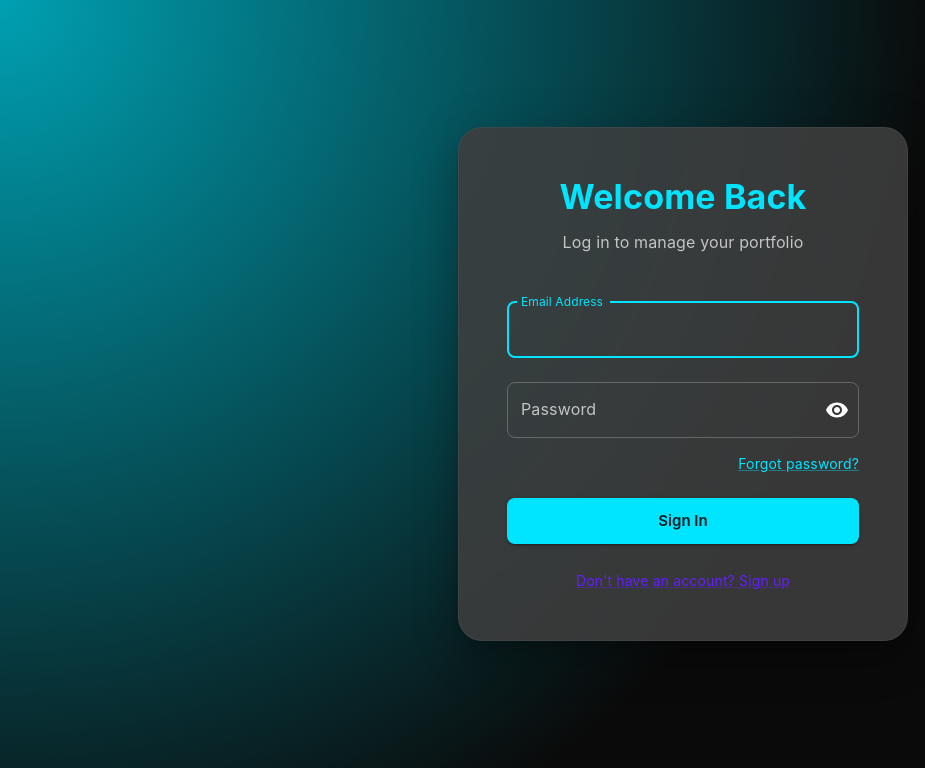
Test: LoginForm Component › shows validation error for invalid email
In the field labelled "Email Address": (683, 330) [507,302,859,358], type "invalid-email"
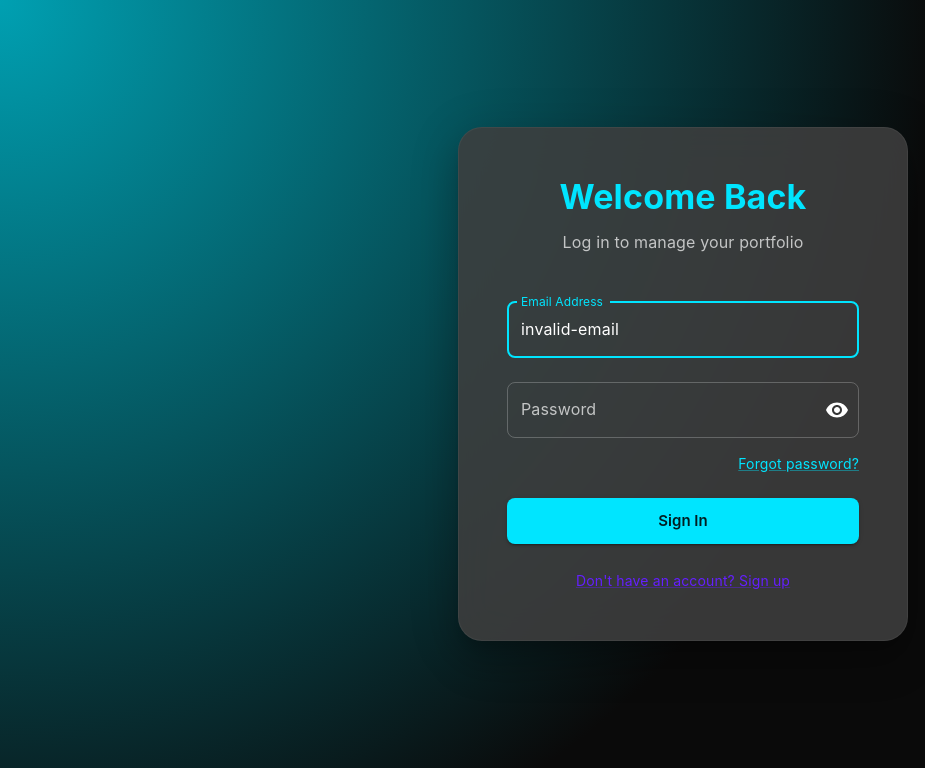
Click the button "Sign In": (683, 521) [507,498,859,544]
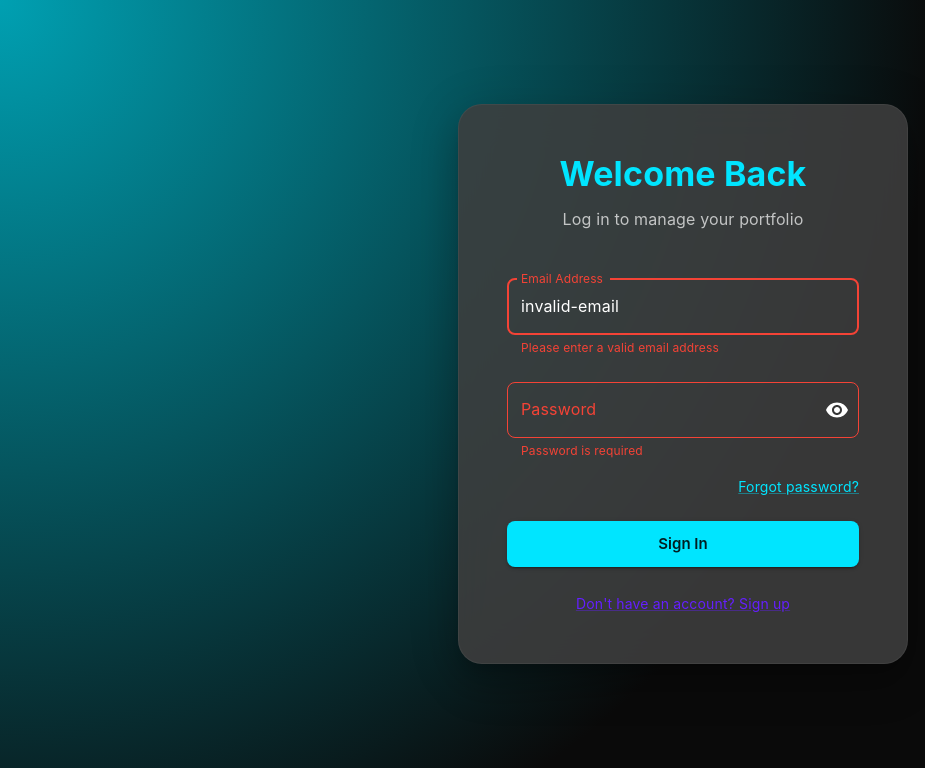
Check: the text "Please enter a valid email address" is shown, box [521,340,719,355]
